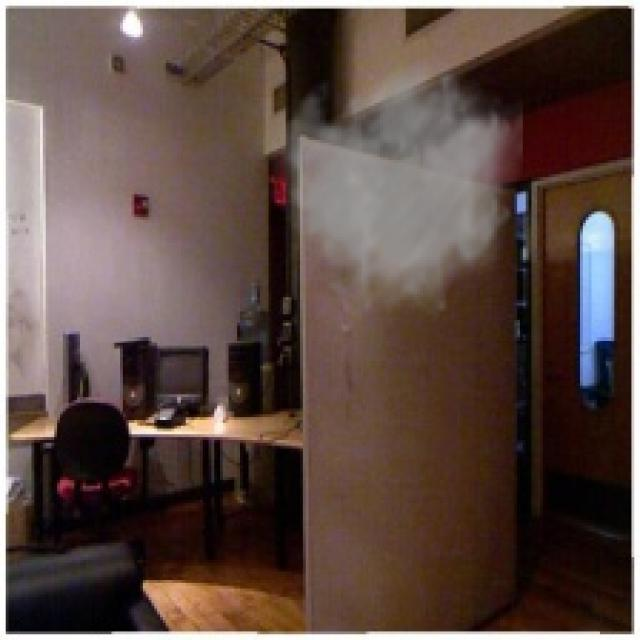Smoke: (263, 54, 523, 323)
